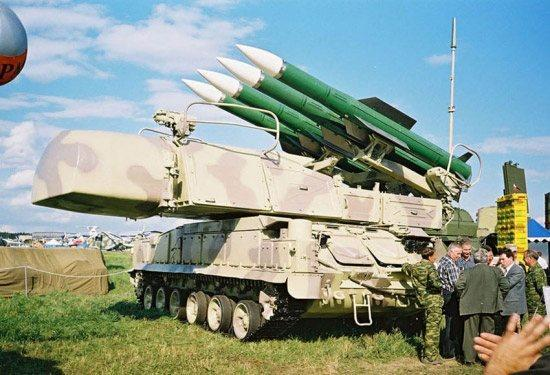rszo: (39, 30, 494, 344)
